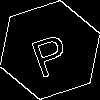P: (25, 25, 73, 79)
